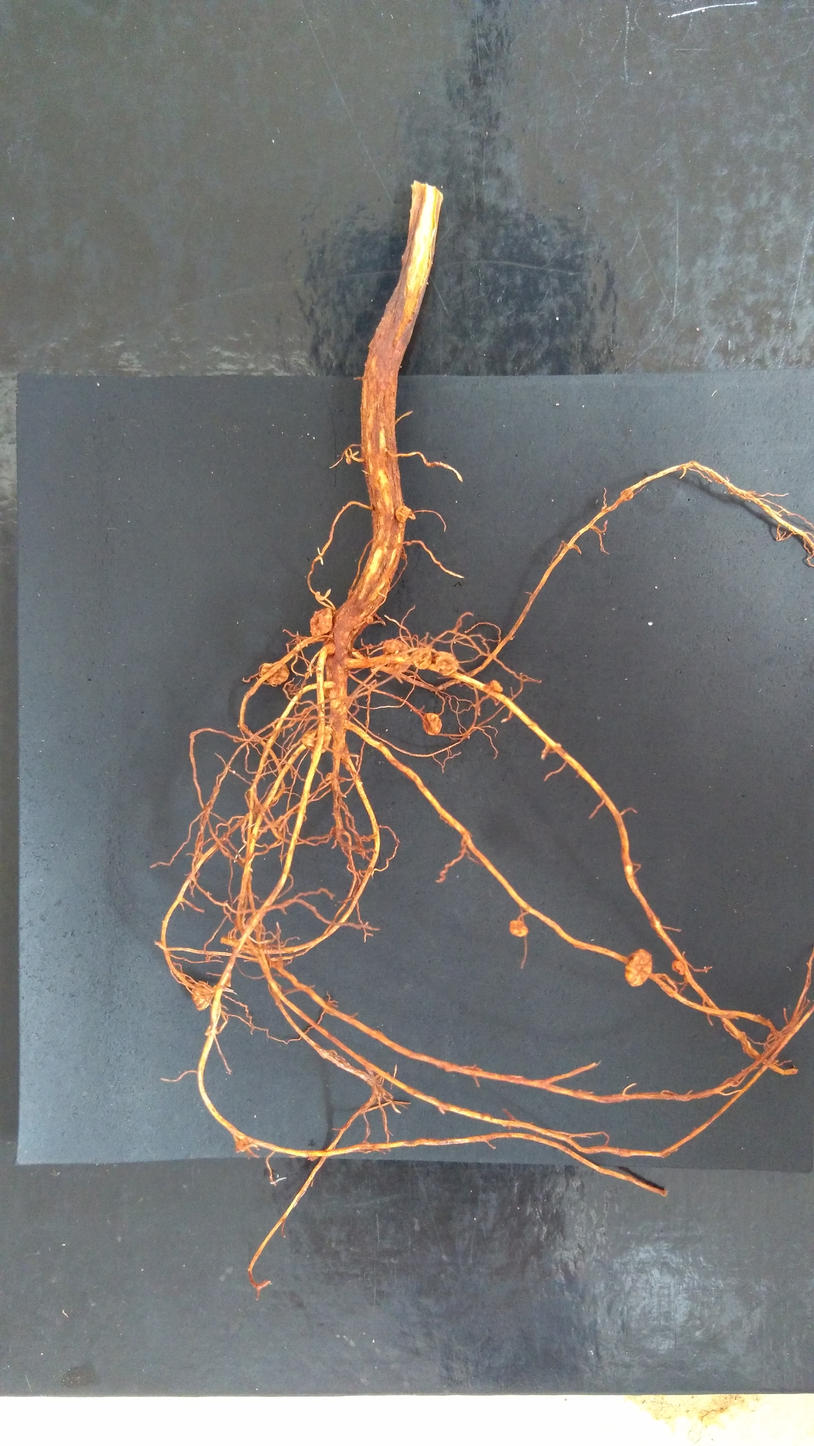nodule: (624, 948, 654, 987), (383, 639, 412, 675), (300, 727, 331, 753), (260, 661, 291, 686), (432, 649, 459, 677), (310, 607, 333, 639), (191, 980, 213, 1011), (411, 647, 433, 670), (422, 712, 442, 736), (509, 918, 529, 938), (322, 681, 339, 700), (395, 505, 412, 523), (483, 680, 504, 692), (321, 640, 336, 655), (672, 959, 685, 976), (620, 489, 634, 501), (325, 772, 334, 780)
